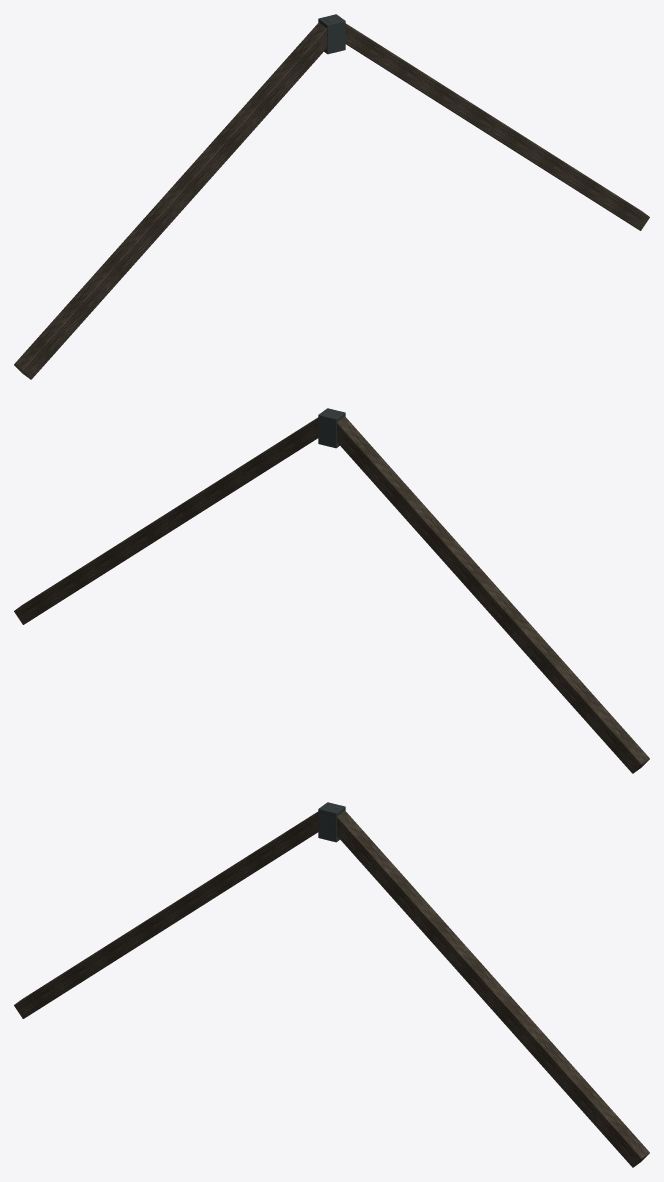
The picture shows the model from 3 angles, top to bottom: view 1: azimuth 30°, elevation 25°; view 2: azimuth 150°, elevation 25°; view 3: azimuth 330°, elevation 25°; orthographic projection.
Visible parts, largest first — view 1: Mesh_dark, Mesh_iron; view 2: Mesh_dark, Mesh_iron; view 3: Mesh_dark, Mesh_iron.
Boxes of the visible parts, x1,y1,x2,y2 form: Mesh_dark: [14, 15, 649, 379]; Mesh_iron: [318, 14, 345, 54]; Mesh_dark: [14, 409, 649, 773]; Mesh_iron: [318, 408, 345, 448]; Mesh_dark: [14, 803, 649, 1167]; Mesh_iron: [318, 802, 345, 842].
Size of the model in its own units: 8.52 by 3.67 by 0.227.
2 materials, 1 textured.
